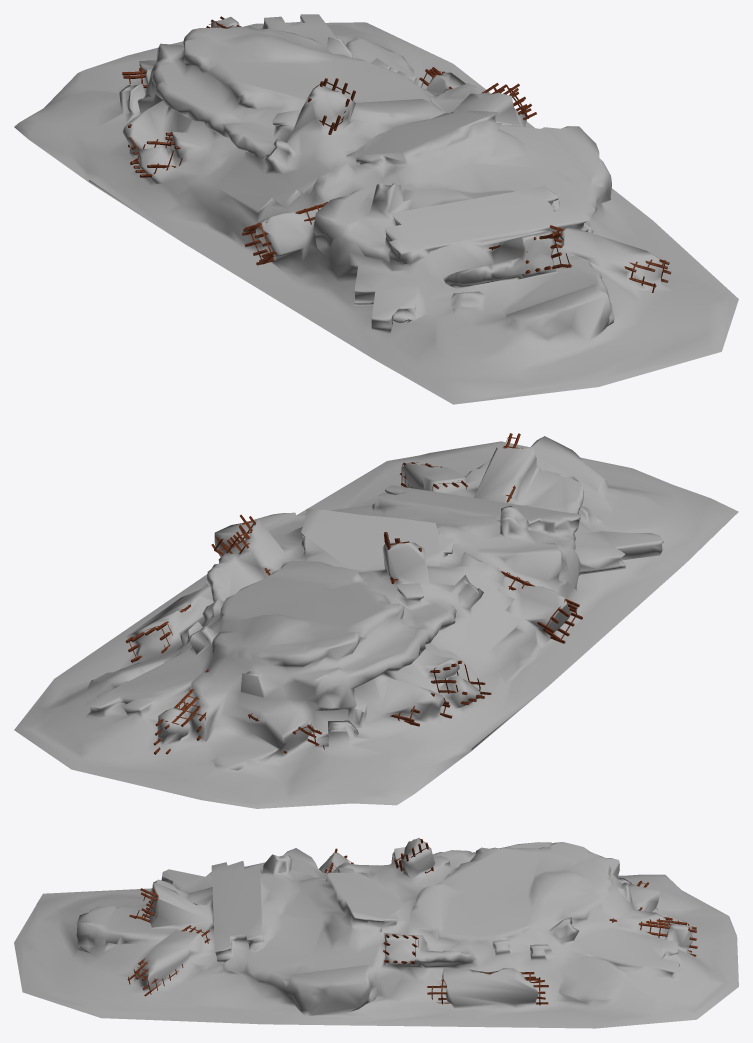
The model's file is BgMD_Pile_03.fbx.
3 views of the same model, one above another, from view 1: azimuth 30°, elevation 25°; view 2: azimuth 150°, elevation 25°; view 3: azimuth 270°, elevation 25° (orthographic). The views are drawn at different scales.
Visible parts, largest first — view 1: Pile03_Wire_Group56863; view 2: Pile03_Wire_Group56863; view 3: Pile03_Wire_Group56863.
Part boxes in pixels (<box>): Pile03_Wire_Group56863: <box>14,14,738,404</box>; Pile03_Wire_Group56863: <box>14,433,738,808</box>; Pile03_Wire_Group56863: <box>14,838,738,1028</box>.
Bounding box in the file's own units: 565 × 184 × 1131.
